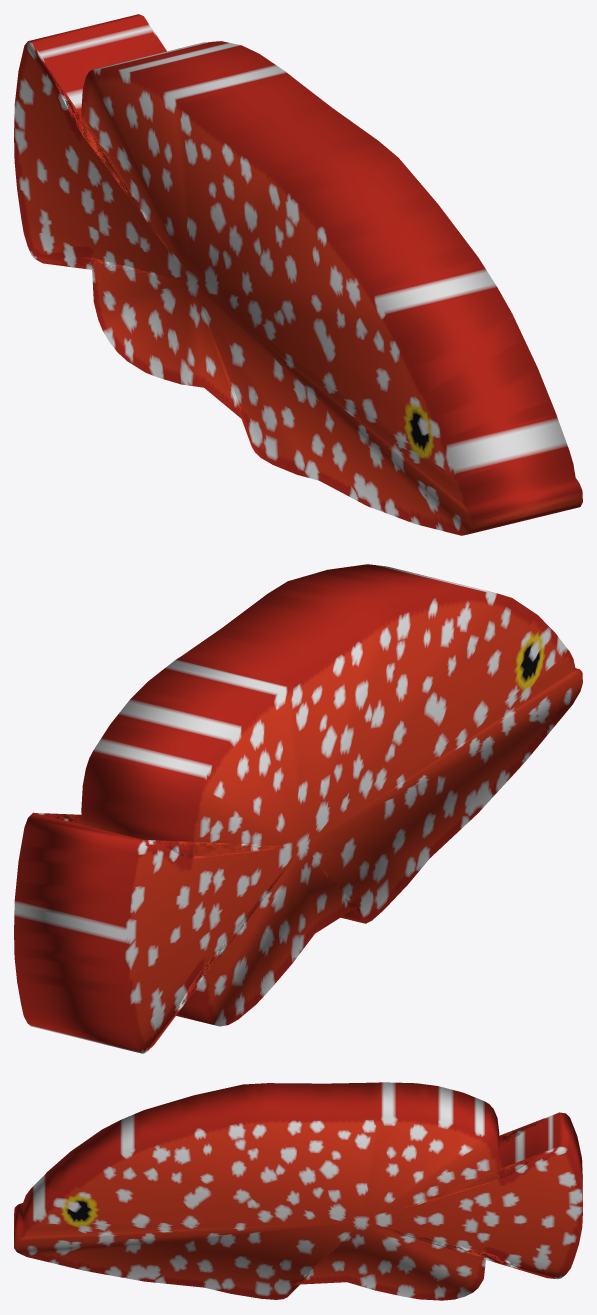
The model's file is coralgrouper.glb.
The picture shows the model from 3 angles, top to bottom: view 1: azimuth 30°, elevation 25°; view 2: azimuth 150°, elevation 25°; view 3: azimuth 270°, elevation 25°; orthographic projection. The views are drawn at different scales.
Parts seen in each view (by area): view 1: coralgrouper; view 2: coralgrouper; view 3: coralgrouper.
Boxes of the visible parts, x1=… form: coralgrouper: x1=14, y1=14, x2=582, y2=535; coralgrouper: x1=14, y1=564, x2=582, y2=1053; coralgrouper: x1=14, y1=1082, x2=582, y2=1300.
Size of the model in its own units: 0.3078 by 0.7879 by 2.2.
